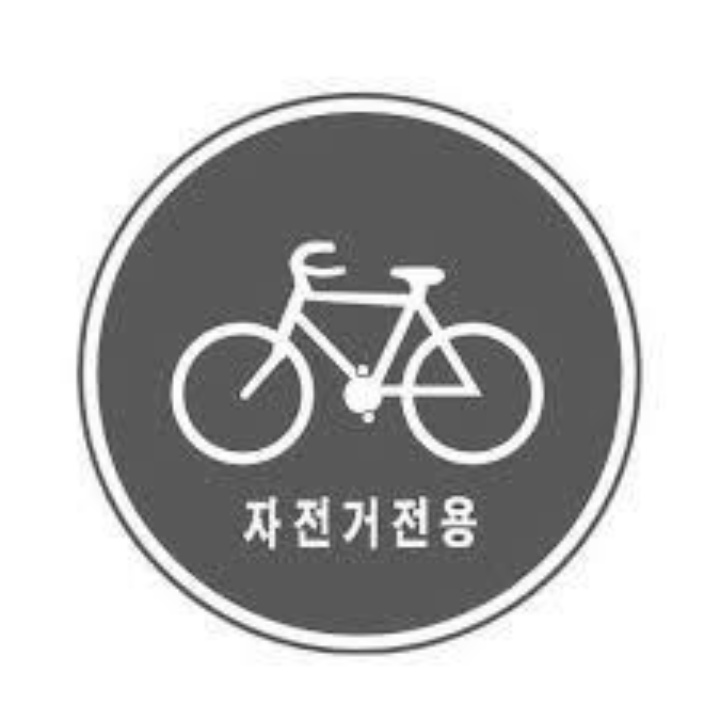bicycle: (120, 214, 575, 475)
